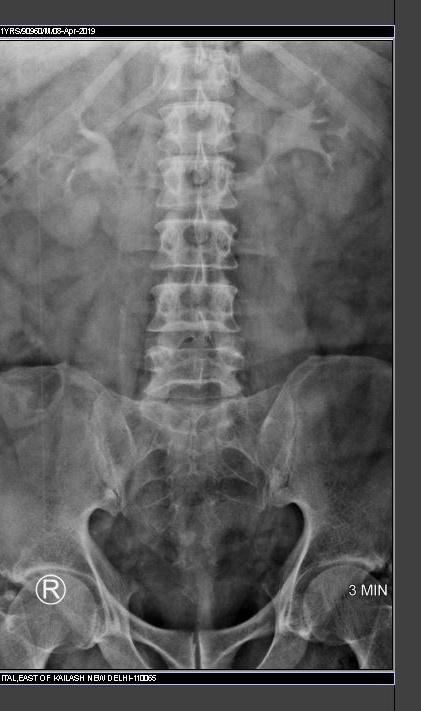left kidney: (290, 26, 414, 213)
right kidney: (14, 44, 128, 244)
vertebrae: (168, 82, 252, 139)
